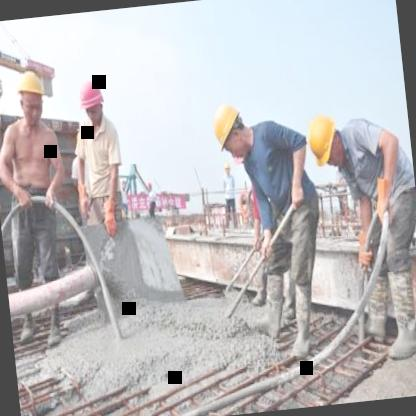helmet: (204, 92, 255, 166), (300, 106, 347, 173), (12, 66, 51, 127), (75, 74, 108, 130)
